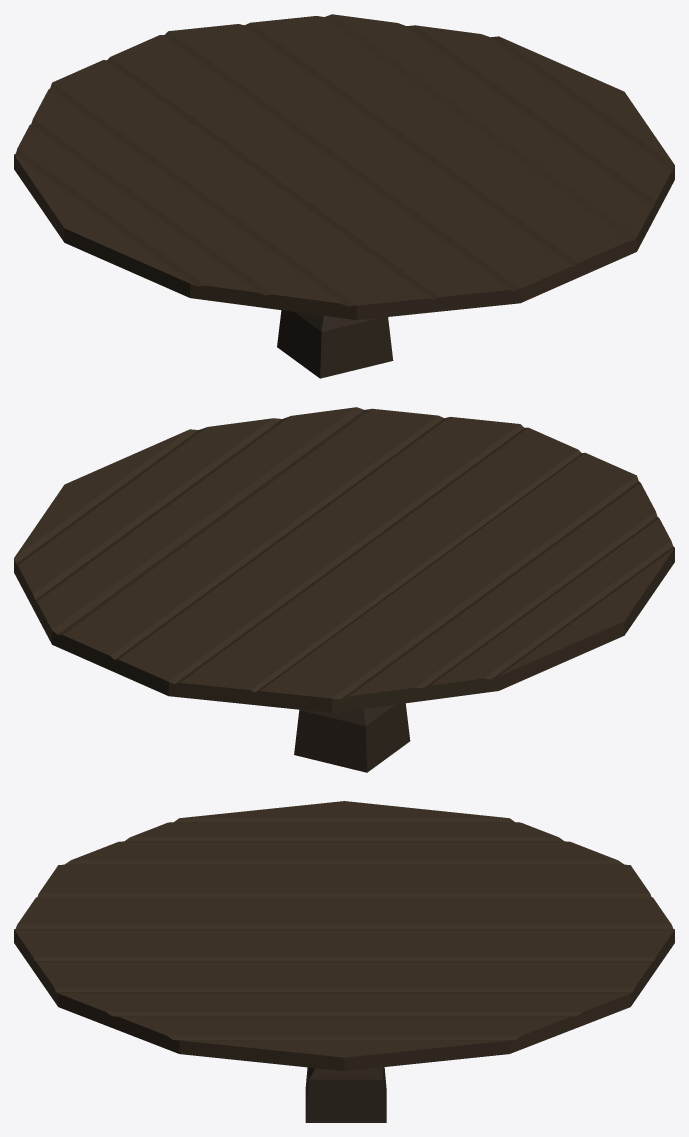
The model's file is mesa redonda.fbx.
The picture shows the model from 3 angles, top to bottom: view 1: azimuth 30°, elevation 25°; view 2: azimuth 150°, elevation 25°; view 3: azimuth 270°, elevation 25°; orthographic projection. The views are drawn at different scales.
Parts seen in each view (by area): view 1: mesa redonda; view 2: mesa redonda; view 3: mesa redonda.
Part boxes in pixels (x1,y1,x2,y2): mesa redonda: [14, 14, 674, 378]; mesa redonda: [14, 407, 674, 772]; mesa redonda: [14, 801, 674, 1122].
Size of the model in its own units: 382 by 126 by 416.
